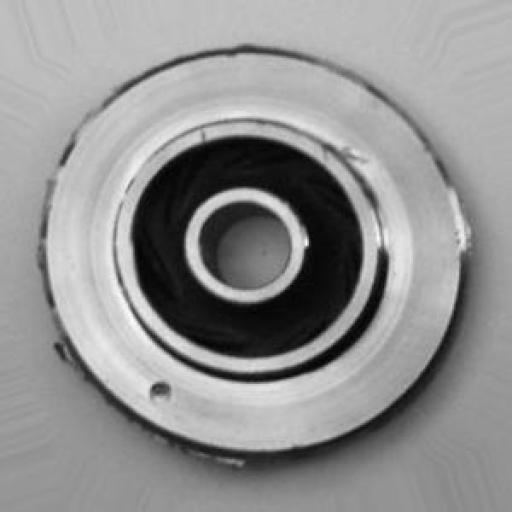defect: (24, 33, 486, 480)
